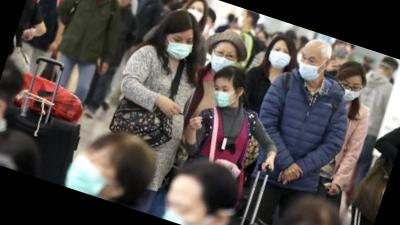with_mask: (60, 139, 126, 202), (156, 189, 212, 225), (161, 30, 197, 66), (206, 44, 240, 80), (294, 51, 326, 86), (264, 43, 296, 73), (208, 80, 238, 111), (336, 77, 365, 107), (183, 2, 206, 26), (332, 40, 353, 62), (235, 11, 250, 30)
